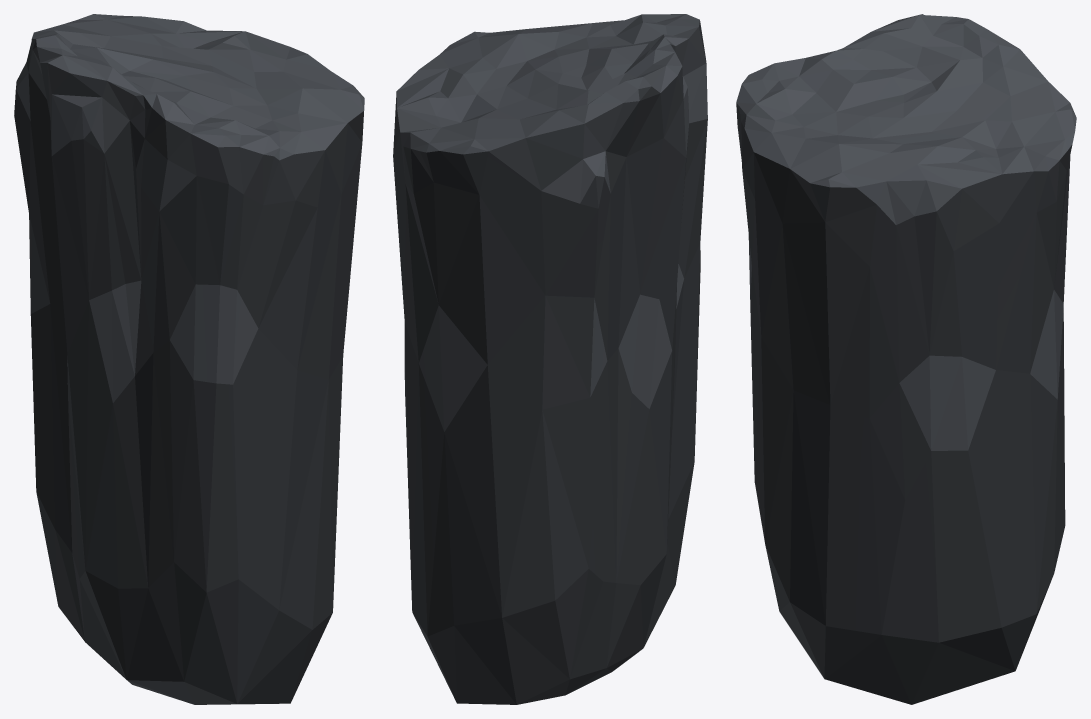
Rendered from isle_cliff_b.gltf.
3 renders of one model, left to right at view 1: azimuth 30°, elevation 25°; view 2: azimuth 150°, elevation 25°; view 3: azimuth 270°, elevation 25°, orthographic. The views are drawn at different scales.
Visible parts, largest first — view 1: isle_cliff_b; view 2: isle_cliff_b; view 3: isle_cliff_b.
Part boxes in pixels (left/top/right/bottom): isle_cliff_b: left=14, top=14, right=364, bottom=704; isle_cliff_b: left=393, top=14, right=707, bottom=704; isle_cliff_b: left=736, top=14, right=1076, bottom=704.
Bounding box in the file's own units: 38.1 × 88.23 × 45.24.
1 material, 1 textured.
